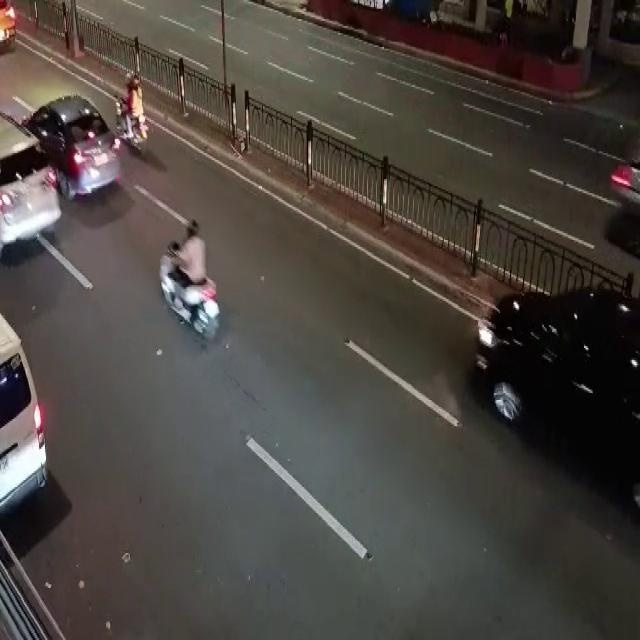car: (464, 284, 638, 458), (35, 94, 107, 200)
motorcycle: (147, 228, 217, 340), (114, 81, 146, 156)
